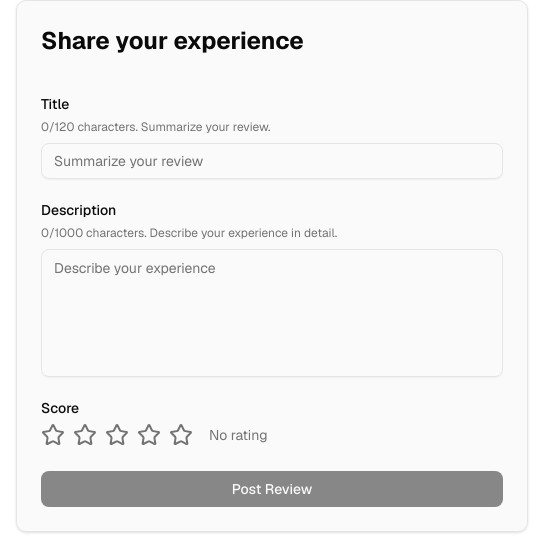
Test: CreateReviewForm › allows selecting a star rating and displays it
The width and height of the screenshot is (545, 550).
Step 1. Click the button named "rate" → x=117, y=435, box [105,423,129,447]
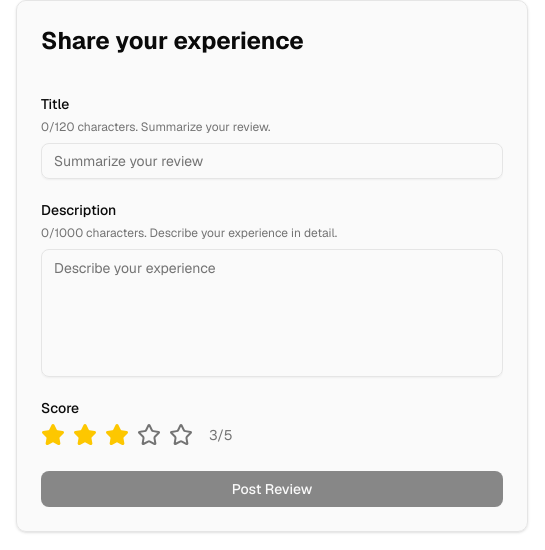
Check: the text "3/5" is shown, box [209,425,232,445]
